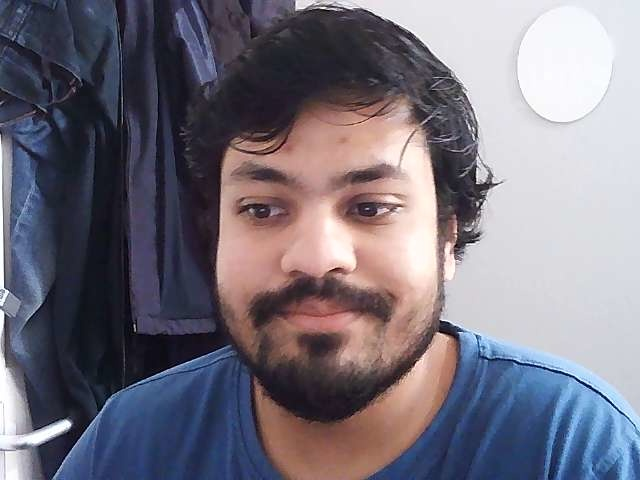Face: (168, 6, 525, 418)
